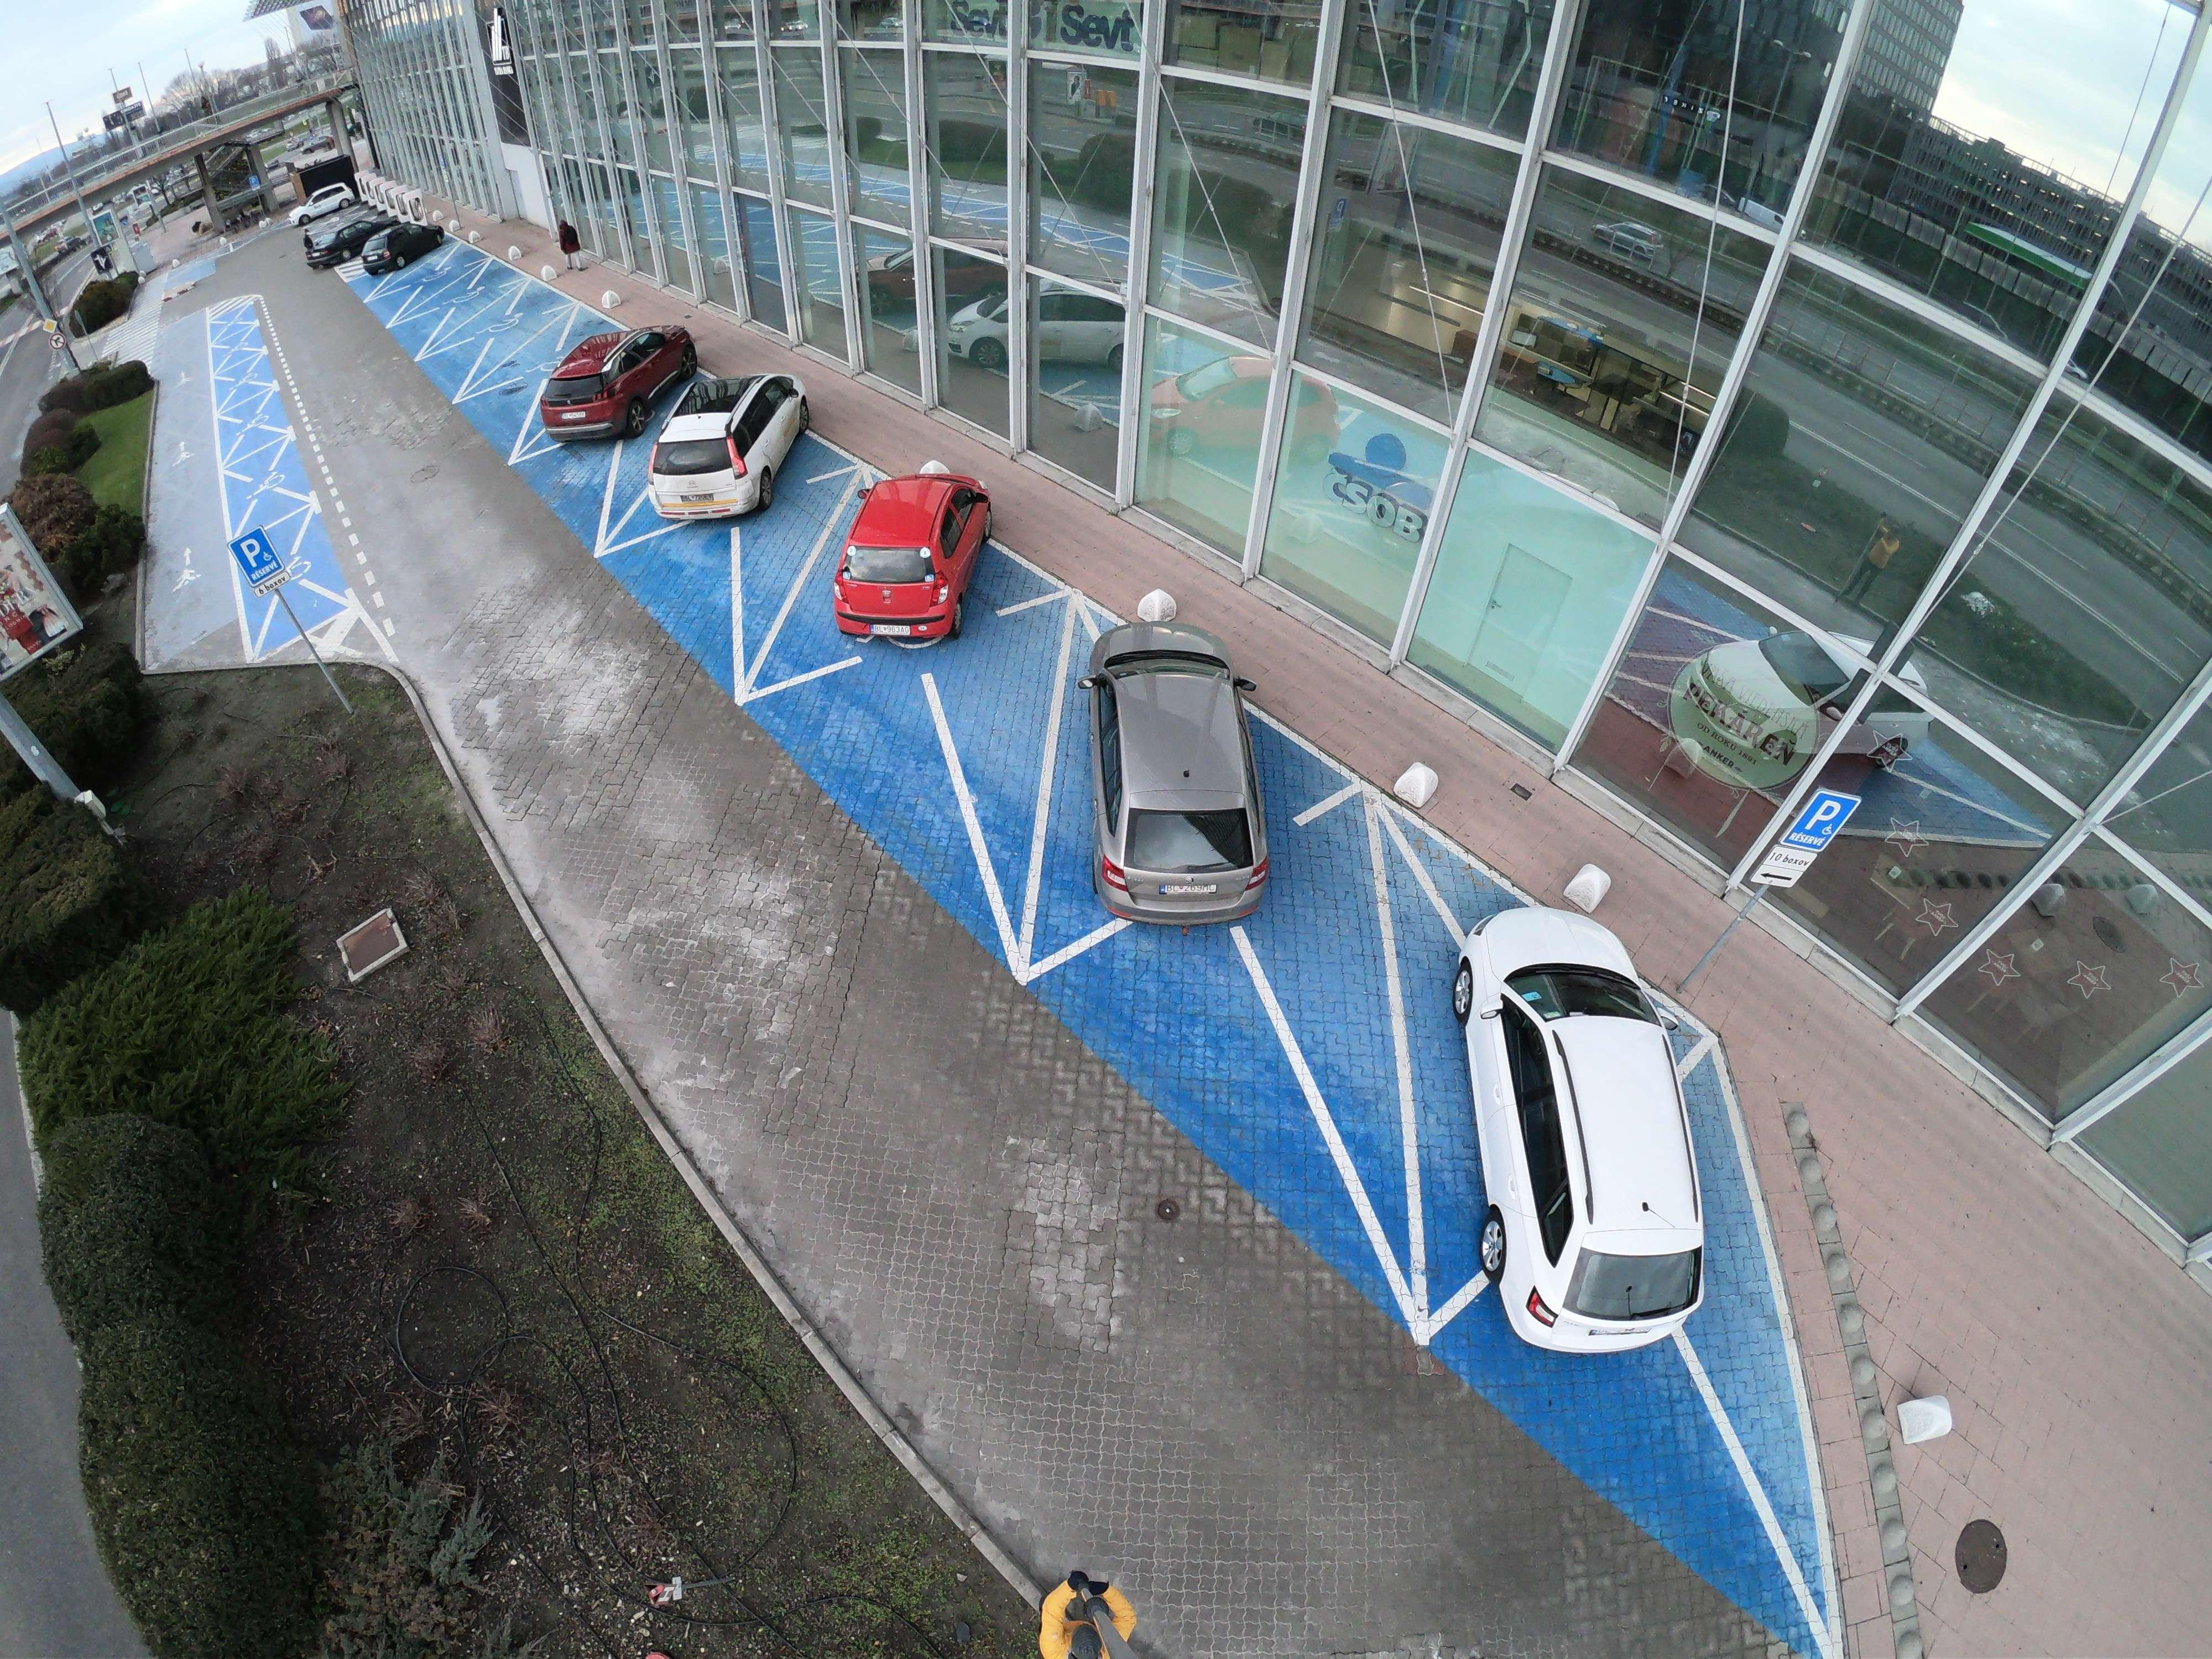empty: (1465, 929, 1726, 1375), (1062, 612, 1299, 922), (812, 469, 1003, 645), (637, 364, 810, 519), (531, 319, 688, 439), (359, 216, 449, 282), (310, 204, 392, 267)
occupied: (479, 312, 570, 376), (425, 282, 498, 338)
